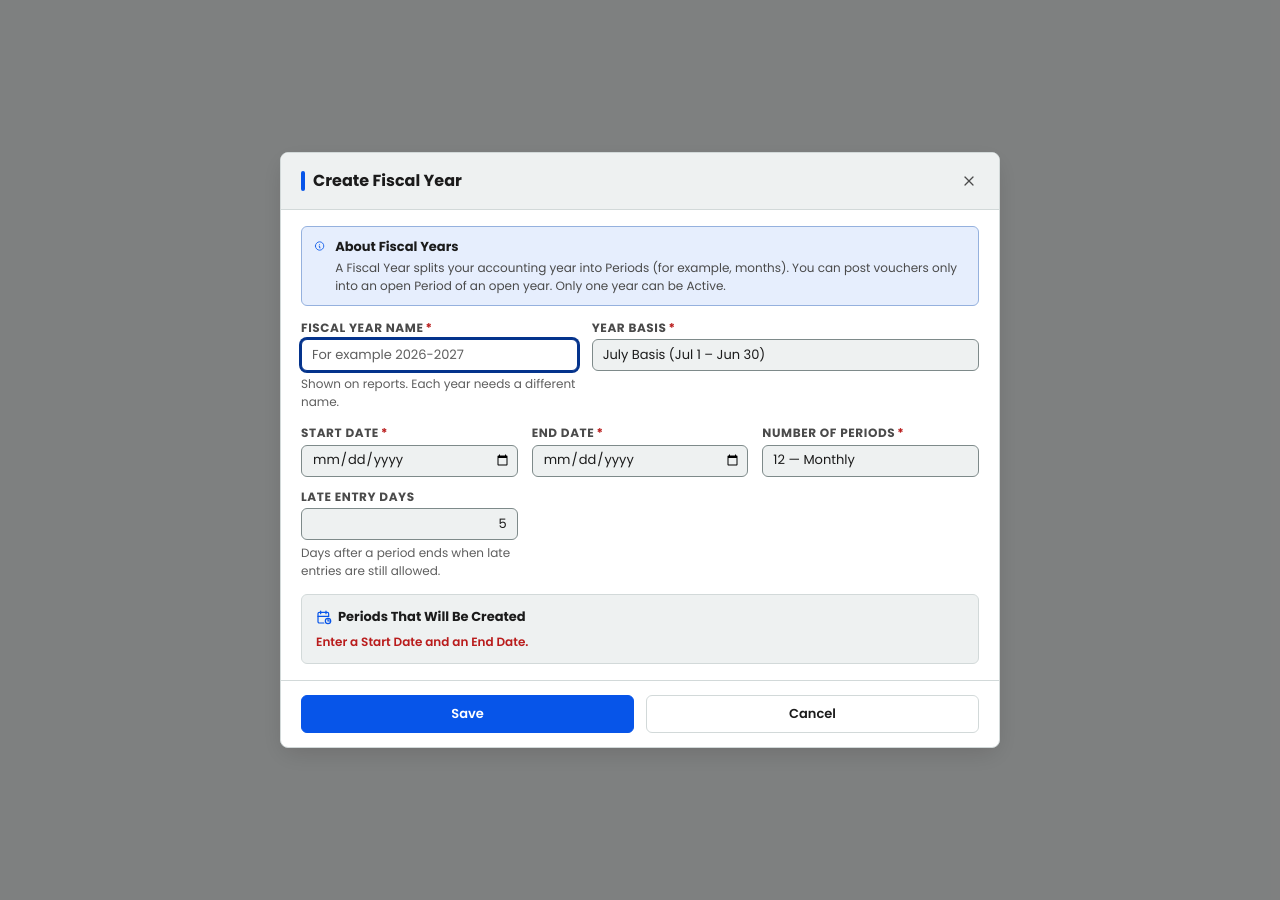
Test: CreateFiscalYearDialog › shows the server message when saving fails, and stays open
In the field labelled "Fiscal Year Name": (439, 355) [301,339,578,371], type "2026-2027"
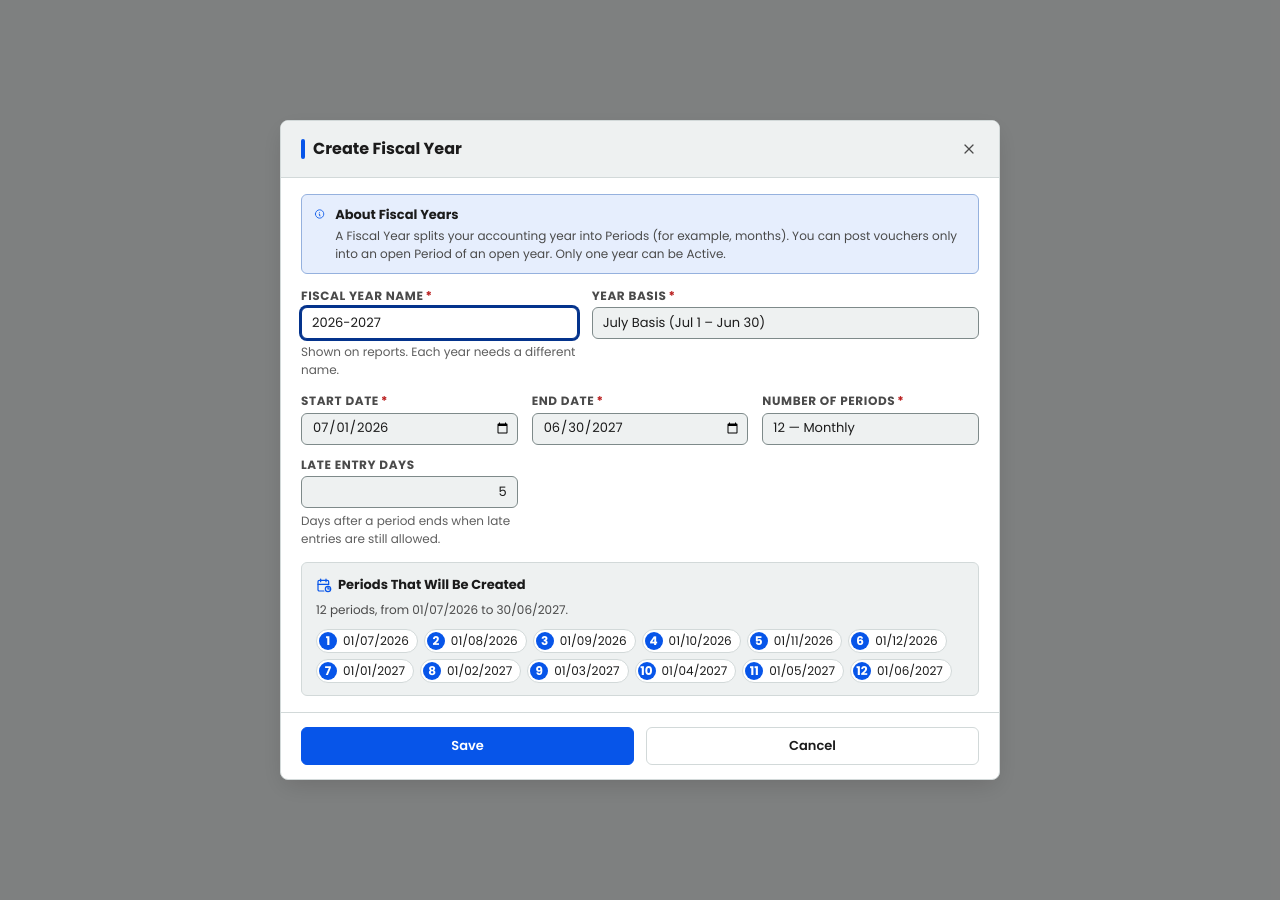
Click the button "Save": (468, 746) [301,727,634,765]
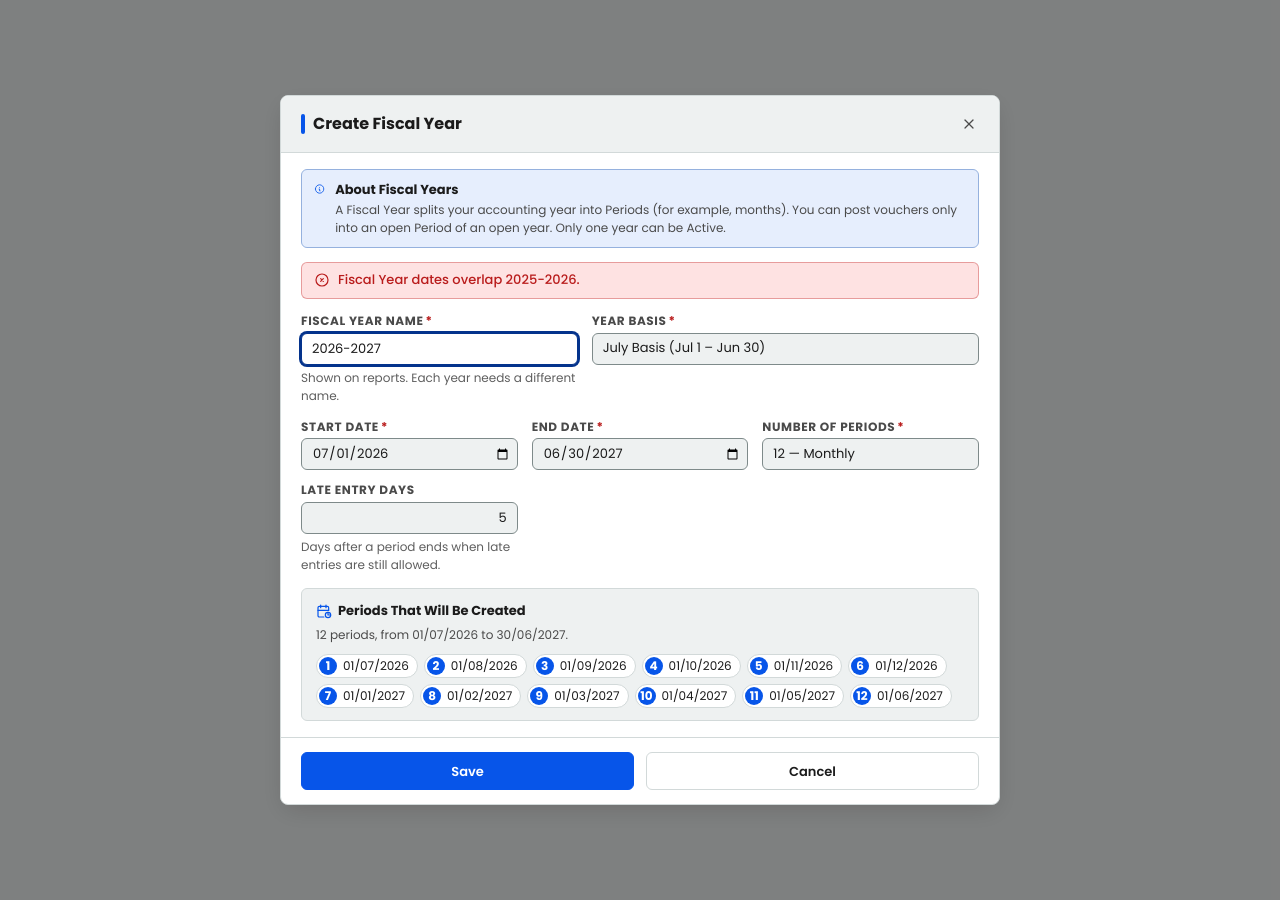
Check: the text "Fiscal Year dates overlap 2025-2026." is shown, box [338,270,580,289]
